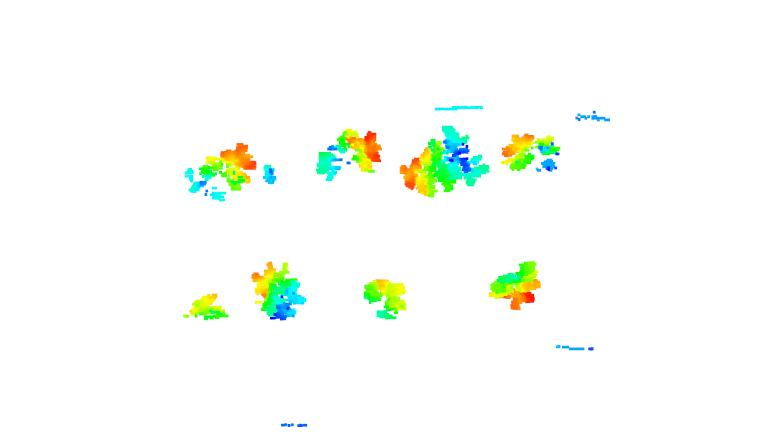chickpea: (400, 124, 490, 198), (184, 140, 274, 203), (314, 126, 384, 184), (248, 259, 310, 321), (500, 132, 564, 180), (485, 260, 544, 312), (358, 273, 411, 325), (181, 290, 229, 322)
